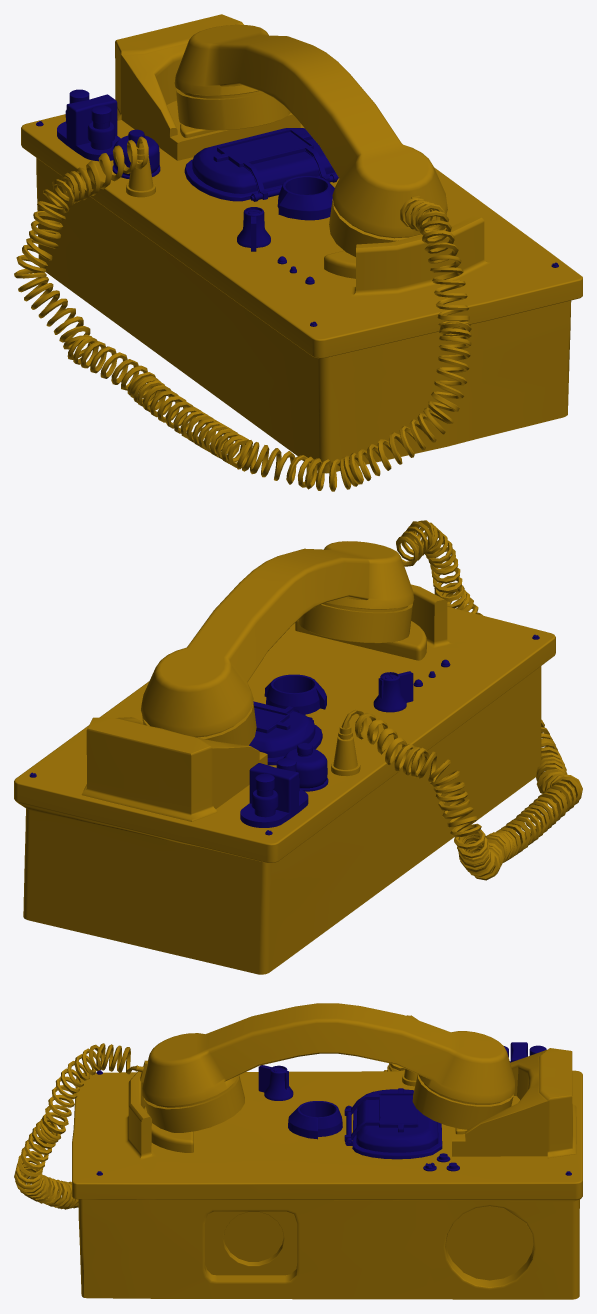
Rendered from phone.fbx.
3 renders of one model, top to bottom at view 1: azimuth 30°, elevation 25°; view 2: azimuth 150°, elevation 25°; view 3: azimuth 270°, elevation 25°, orthographic. The views are drawn at different scales.
Visible parts, largest first — view 1: phone_low; view 2: phone_low; view 3: phone_low.
Boxes of the visible parts, x1,y1,x2,y2 form: phone_low: (14,14,582,491); phone_low: (14,520,582,974); phone_low: (14,1003,582,1299).
Bounding box in the file's own units: 18.13 × 13.34 × 27.56.
